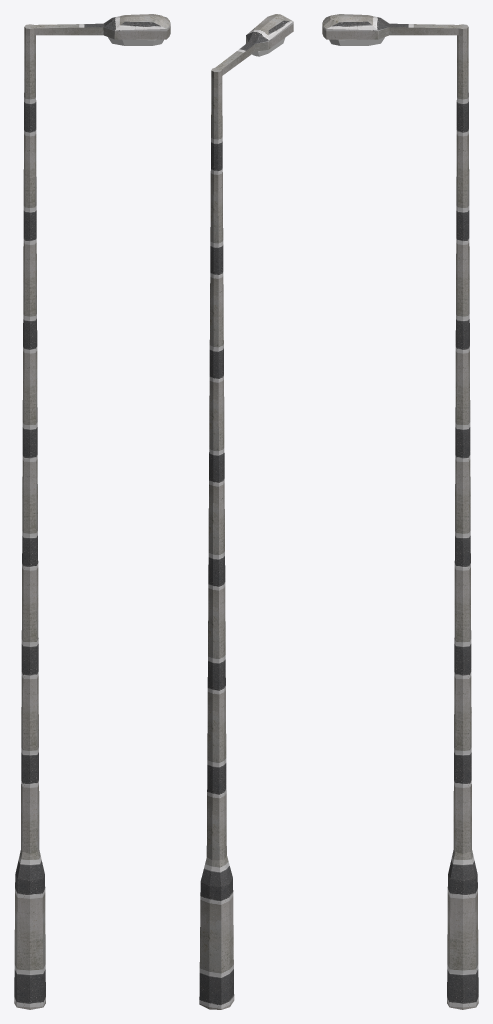
The model's file is streetlight.fbx.
The picture shows the model from 3 angles, left to right: view 1: azimuth 90°, elevation 25°; view 2: azimuth 150°, elevation 25°; view 3: azimuth 270°, elevation 25°; orthographic projection. The views are drawn at different scales.
Parts seen in each view (by area): view 1: Cube.010; view 2: Cube.010; view 3: Cube.010.
Boxes of the visible parts, <box> form: Cube.010: <box>14,14,170,1009</box>; Cube.010: <box>199,14,293,1009</box>; Cube.010: <box>322,14,478,1009</box>.
Size of the model in its own units: 45.65 by 1571 by 225.
2 materials, 1 textured.
